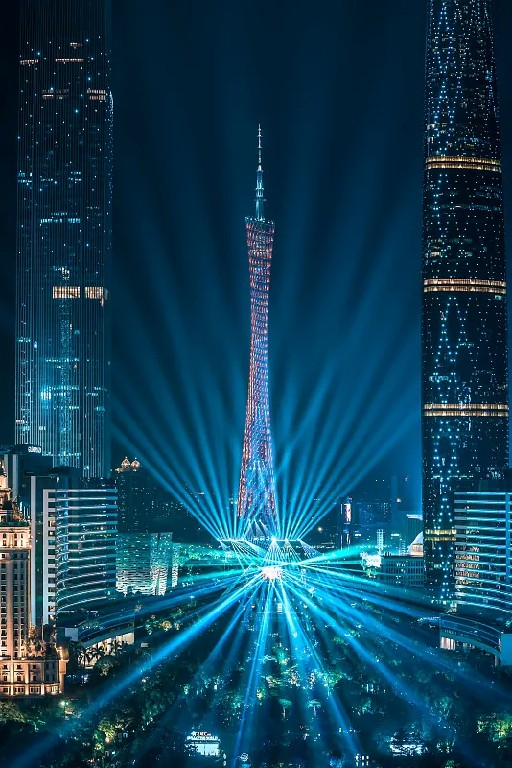Canton: (228, 117, 290, 537)
